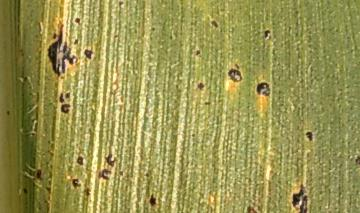tarspot: (46, 22, 80, 79), (291, 182, 311, 213), (254, 81, 273, 98), (226, 68, 243, 83), (103, 152, 118, 167), (98, 168, 112, 181), (59, 103, 72, 115), (244, 204, 259, 213), (148, 191, 157, 206), (83, 48, 94, 60), (304, 130, 314, 142), (75, 155, 85, 167), (71, 177, 81, 189), (210, 19, 220, 29), (195, 81, 205, 91), (262, 29, 271, 40), (73, 16, 82, 26), (83, 187, 92, 197), (116, 169, 125, 179), (35, 168, 42, 180), (58, 92, 65, 103), (21, 75, 30, 83), (202, 100, 212, 107), (354, 154, 360, 165), (72, 38, 80, 46), (143, 171, 151, 179), (194, 49, 201, 57), (64, 90, 71, 98), (5, 109, 12, 117), (149, 26, 157, 33), (190, 132, 197, 140), (232, 63, 241, 69), (167, 32, 173, 41), (117, 1, 124, 8), (22, 186, 28, 194)
